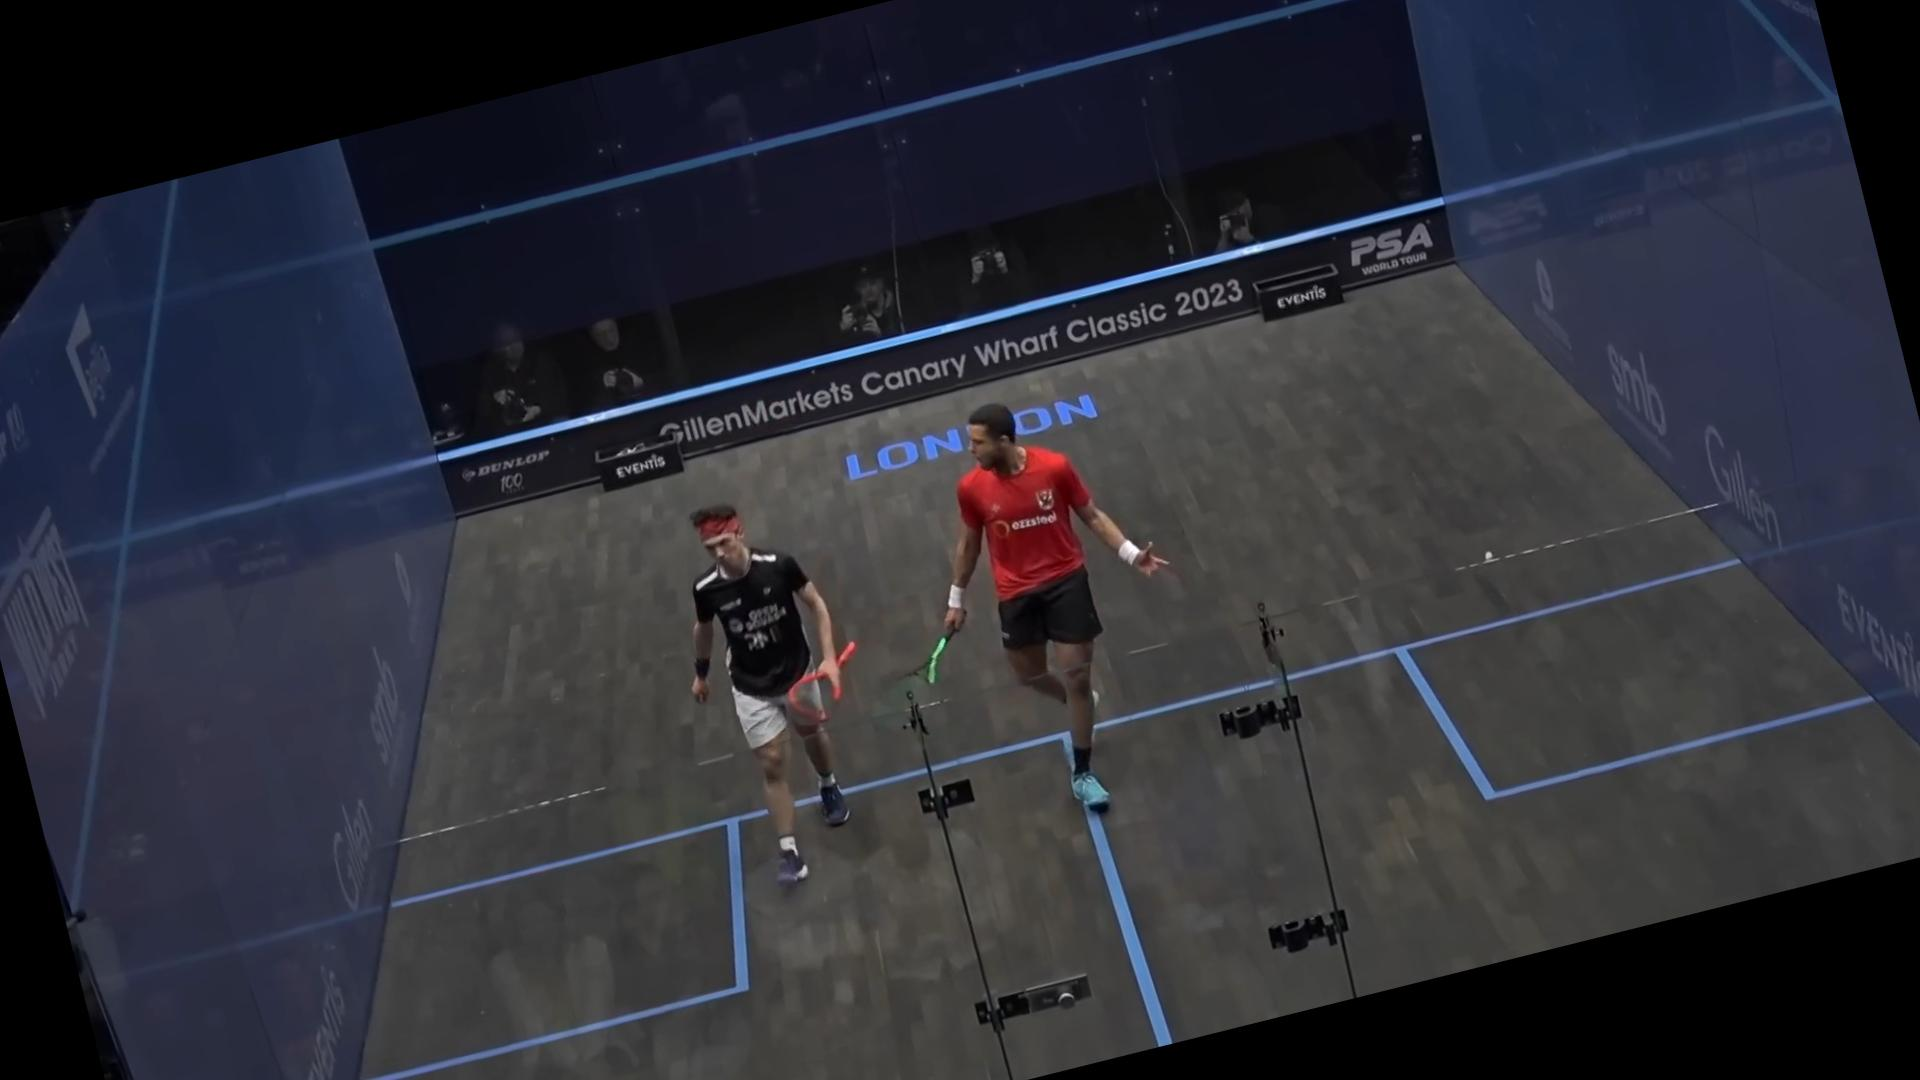Racket: (870, 632, 978, 735), (775, 636, 882, 736)
